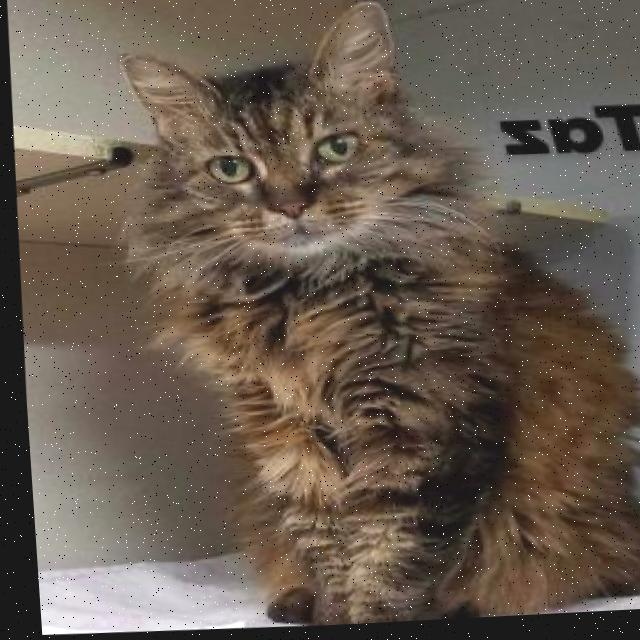Maine Coon: (98, 0, 640, 636)
